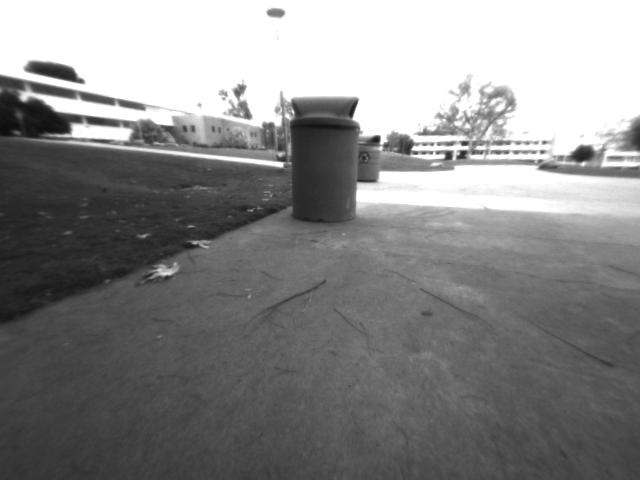trashcan: (288, 92, 362, 226)
